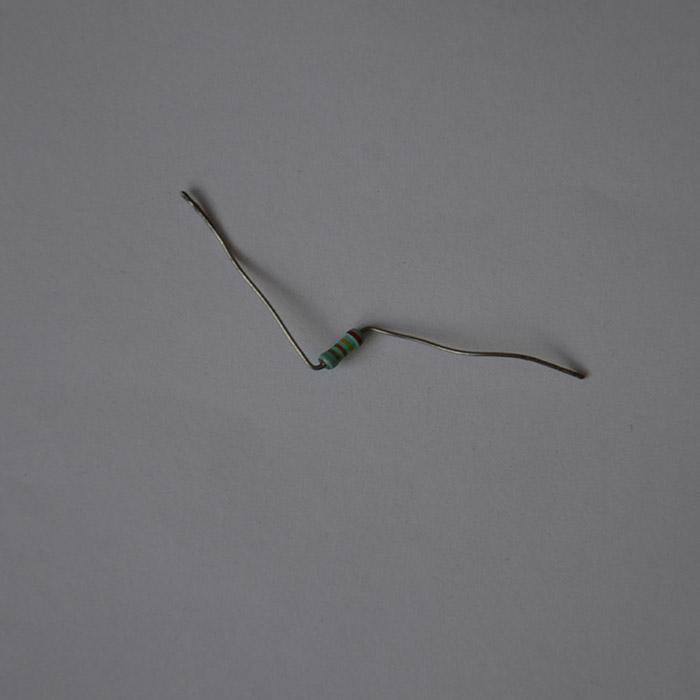resistor: (317, 328, 366, 370)
